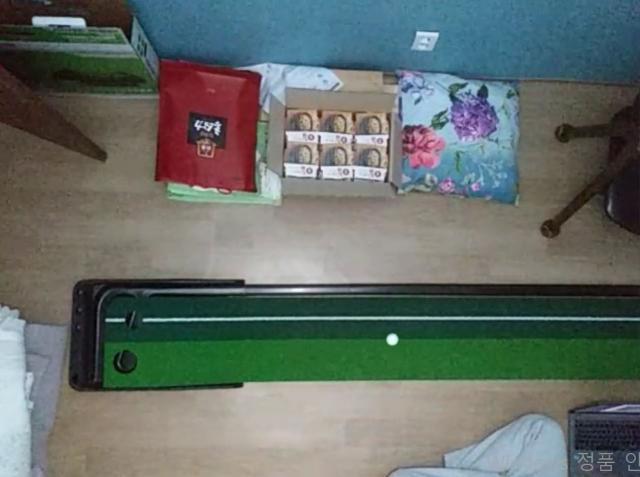golf_ball: (385, 333, 400, 348)
green_zone: (105, 297, 639, 386)
hole: (112, 349, 139, 376), (124, 310, 143, 331)
